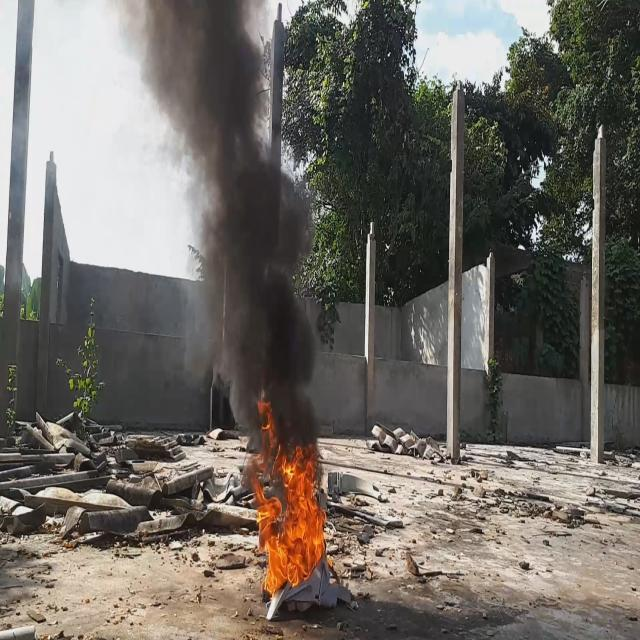Fire: (252, 396, 328, 594)
Smoke: (123, 0, 320, 463)
